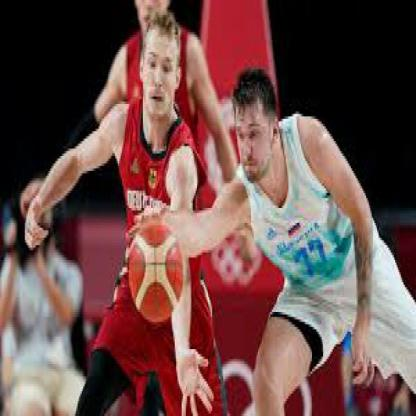basketball: (127, 223, 184, 324)
